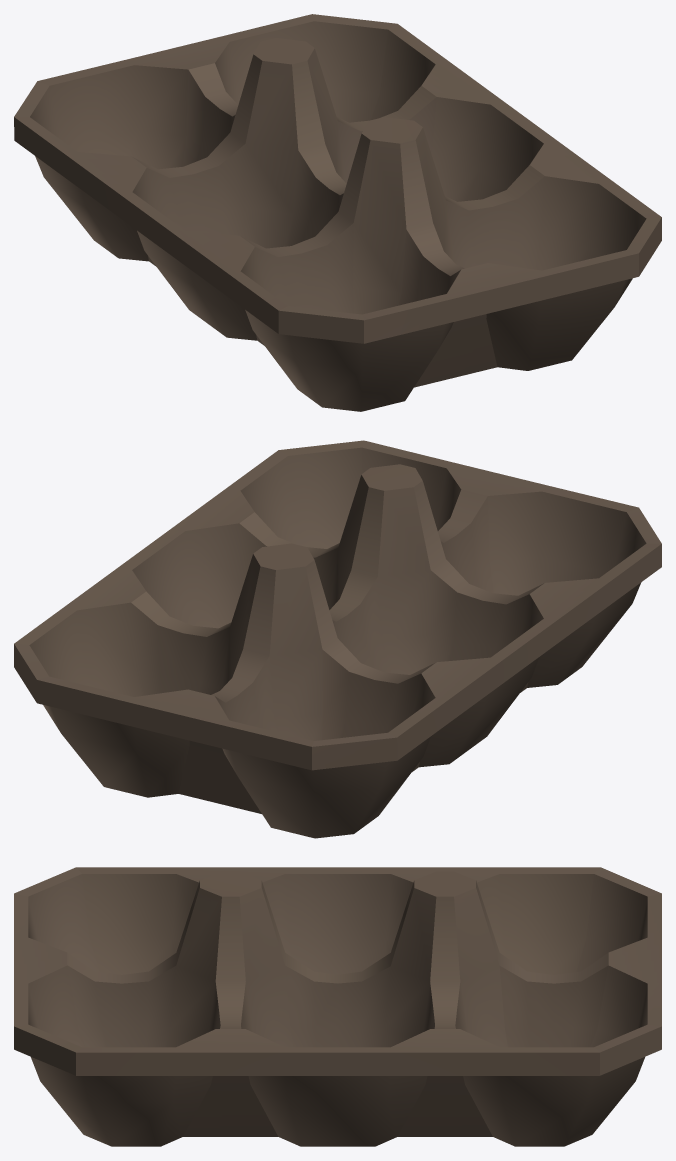
File: hypercasual_prop008.FBX
The picture shows the model from 3 angles, top to bottom: view 1: azimuth 30°, elevation 25°; view 2: azimuth 150°, elevation 25°; view 3: azimuth 270°, elevation 25°; orthographic projection.
Parts seen in each view (by area): view 1: hypercasual_prop008; view 2: hypercasual_prop008; view 3: hypercasual_prop008.
Part boxes in pixels (bbox=[...]): hypercasual_prop008: bbox=[14, 14, 661, 411]; hypercasual_prop008: bbox=[14, 440, 661, 838]; hypercasual_prop008: bbox=[14, 867, 661, 1146].
Size of the model in its own units: 1.13 by 0.5665 by 1.67.
1 material, 1 textured.
